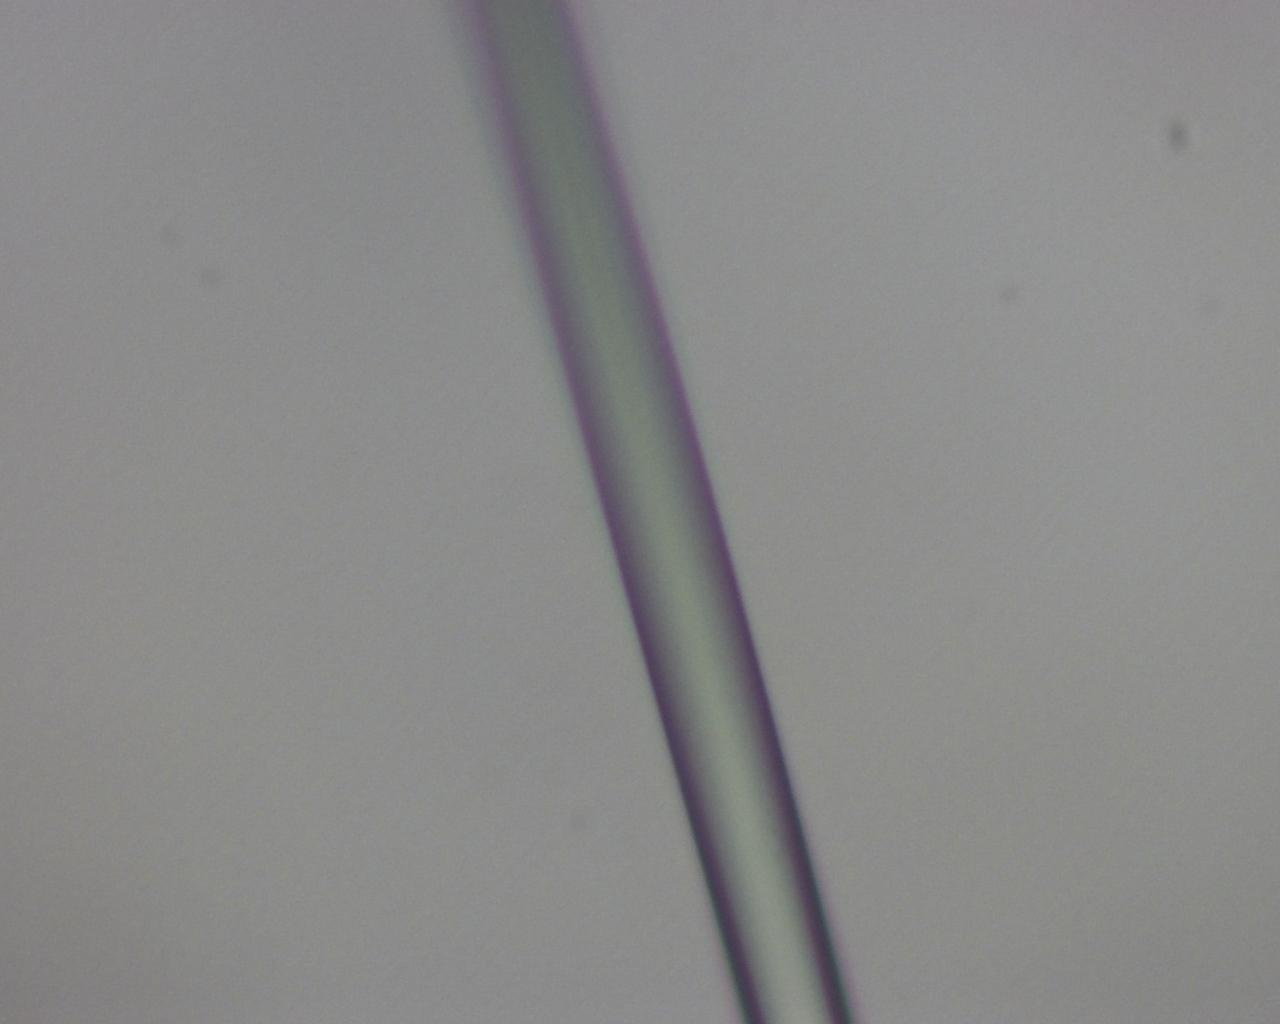fiber: (878, 491, 1269, 1024), (729, 67, 1280, 171), (0, 609, 708, 659), (0, 62, 729, 101)
